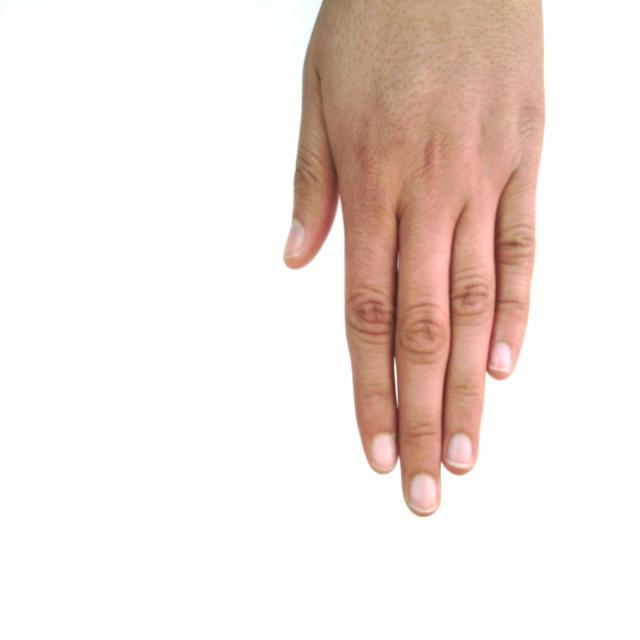Fingernail: (410, 475, 437, 511), (372, 435, 396, 471), (448, 435, 473, 466), (284, 221, 303, 258), (491, 343, 511, 371)
